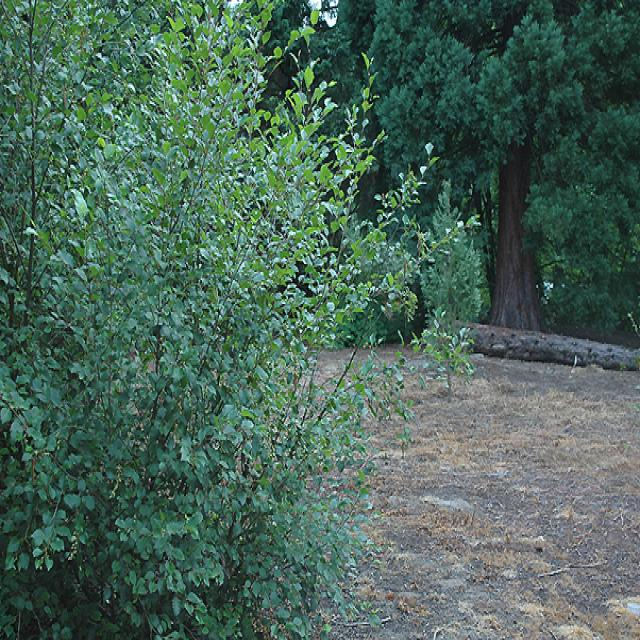Alnus alnobetula: (0, 0, 407, 638), (414, 174, 498, 411)
